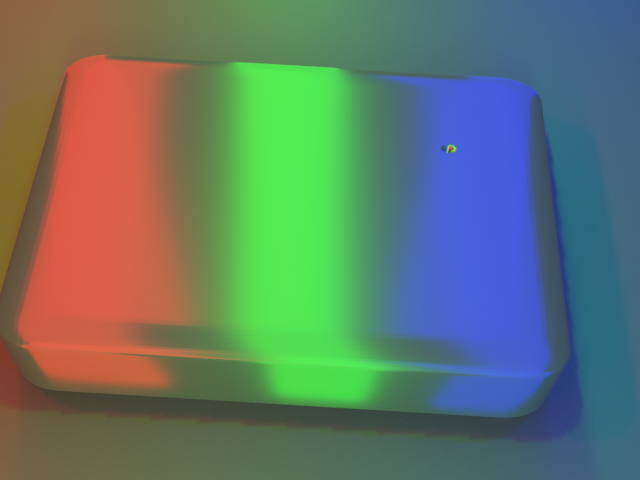dent: (442, 124, 481, 164)
